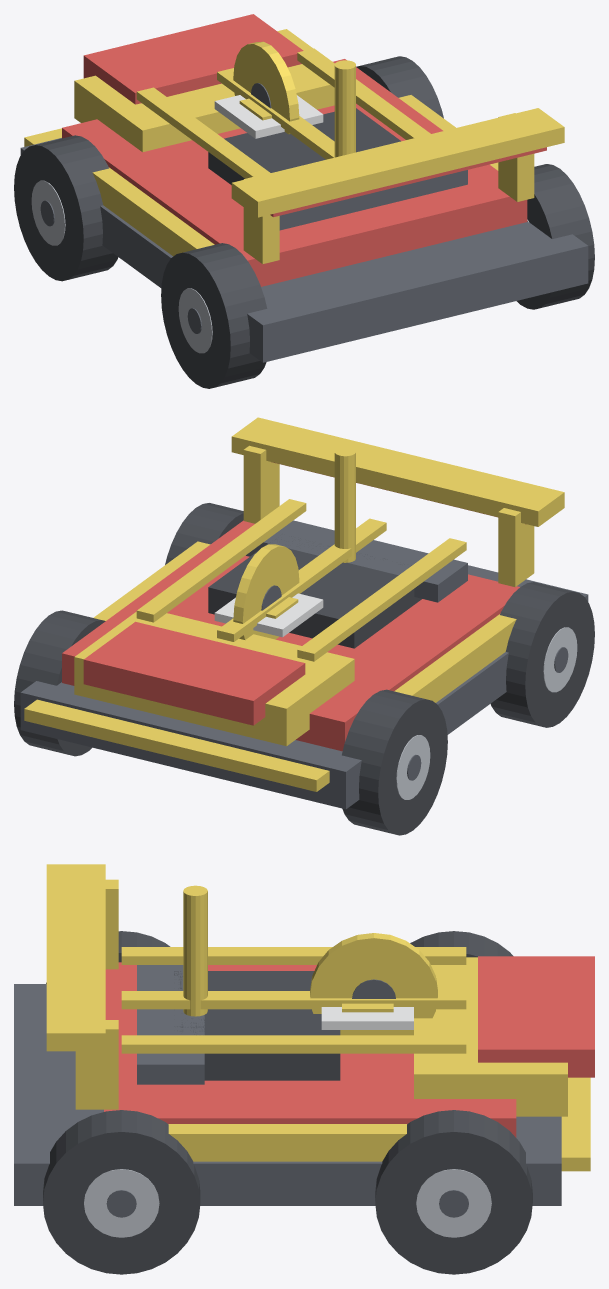
Rendered from blaze.glb.
3 renders of one model, top to bottom at view 1: azimuth 30°, elevation 25°; view 2: azimuth 150°, elevation 25°; view 3: azimuth 270°, elevation 25°, orthographic. The views are drawn at different scales.
Parts seen in each view (by area): view 1: part_0, part_1, part_11, part_19, part_16, part_3, part_2, part_25, part_4, part_9, part_8, part_5 (+12 smaller); view 2: part_1, part_3, part_0, part_11, part_16, part_2, part_19, part_28, part_4, part_22, part_5, part_9 (+12 smaller); view 3: part_0, part_1, part_25, part_22, part_3, part_11, part_2, part_4, part_10, part_8, part_33, part_5 (+14 smaller).
Part boxes in pixels (x1,y1,x2,y2): part_0: (20, 138, 588, 362); part_1: (62, 59, 527, 286); part_11: (231, 108, 564, 217); part_19: (161, 243, 267, 388); part_16: (14, 135, 118, 281); part_3: (83, 14, 303, 104); part_2: (74, 29, 334, 152); part_25: (516, 164, 594, 309); part_4: (208, 108, 400, 184); part_9: (92, 167, 214, 256); part_8: (233, 41, 299, 134); part_5: (279, 170, 467, 230); part_1: (62, 520, 519, 751); part_3: (83, 621, 305, 725); part_0: (20, 565, 588, 809); part_11: (231, 417, 564, 526); part_16: (342, 689, 447, 835); part_2: (74, 611, 354, 746); part_19: (490, 582, 594, 727); part_28: (24, 699, 329, 791); part_4: (208, 536, 421, 648); part_22: (14, 610, 105, 756); part_5: (246, 520, 467, 602); part_9: (394, 614, 516, 702); part_0: (14, 984, 561, 1205); part_1: (104, 962, 516, 1137); part_25: (43, 1110, 200, 1274); part_22: (375, 1110, 532, 1274); part_3: (478, 956, 594, 1077); part_11: (46, 864, 105, 1051); part_2: (414, 957, 567, 1116); part_4: (174, 971, 340, 1080); part_10: (168, 1124, 406, 1161); part_8: (310, 933, 437, 1035); part_33: (121, 1035, 466, 1053); part_5: (137, 965, 204, 1084).
Size of the model in its own units: 3.89 by 2.54 by 4.72.
